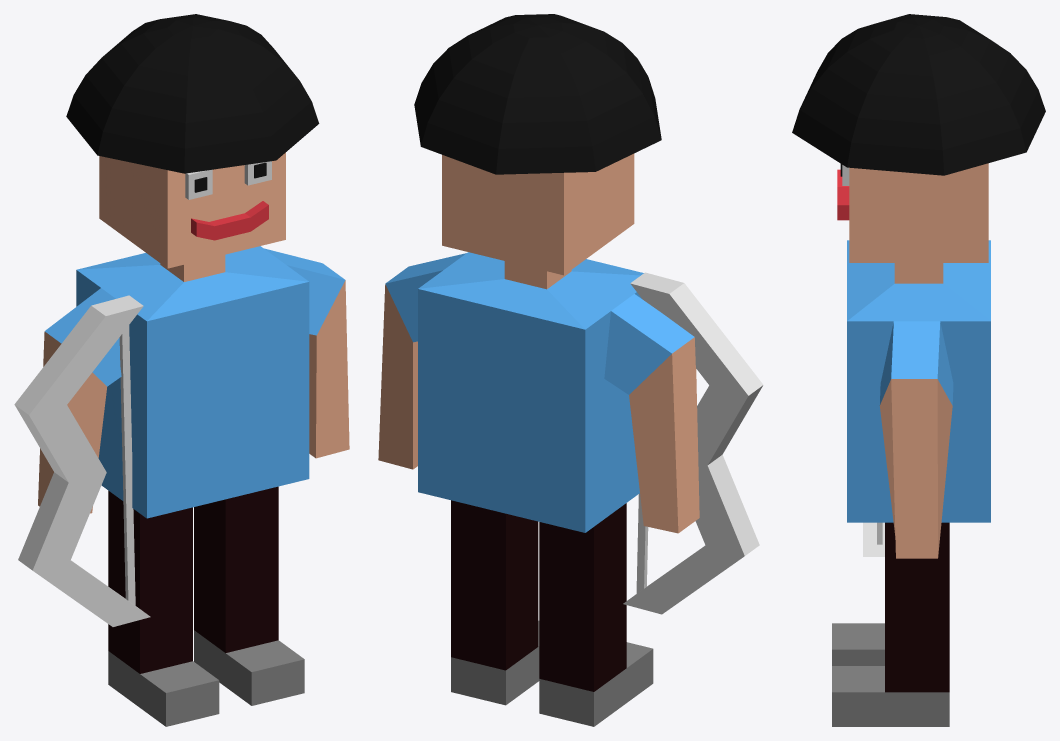
Rendered from archer.fbx.
3 renders of one model, left to right at view 1: azimuth 30°, elevation 25°; view 2: azimuth 150°, elevation 25°; view 3: azimuth 270°, elevation 25°, orthographic. The views are drawn at different scales.
Parts seen in each view (by area): view 1: Peasant; view 2: Peasant; view 3: Peasant.
Boxes of the visible parts, bbox=[...] form: Peasant: bbox=[14, 14, 349, 726]; Peasant: bbox=[378, 14, 763, 726]; Peasant: bbox=[792, 14, 1045, 726].
Bounding box in the file's own units: 0.8538 × 1.58 × 0.546.
